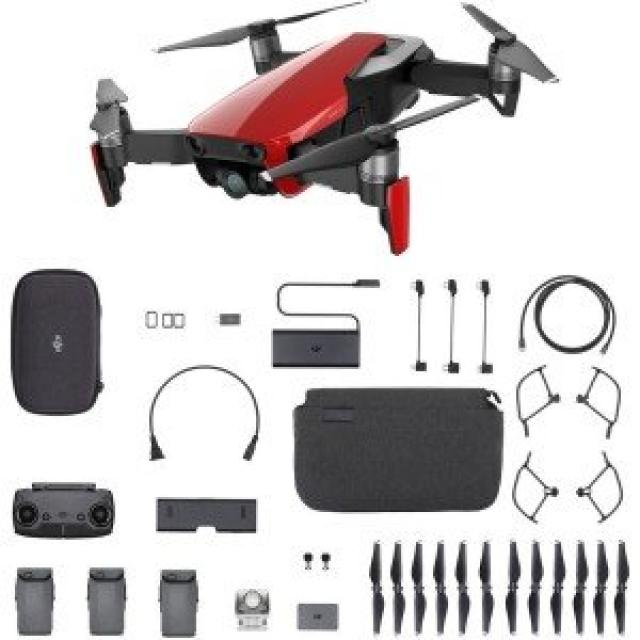drone: (66, 7, 572, 244)
